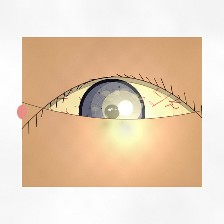corneal_ulcer: (90, 82, 154, 134)
